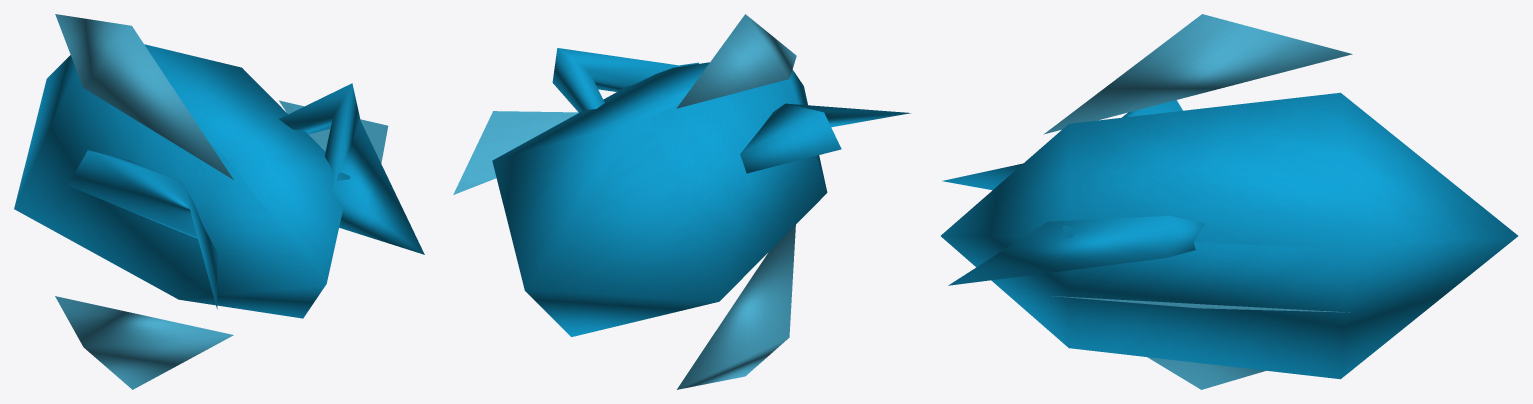
File: SM_storm_projectile_LOD2.fbx
3 renders of one model, left to right at view 1: azimuth 30°, elevation 25°; view 2: azimuth 150°, elevation 25°; view 3: azimuth 270°, elevation 25°, orthographic. The views are drawn at different scales.
Parts seen in each view (by area): view 1: SM_storm_projectile_LOD2; view 2: SM_storm_projectile_LOD2; view 3: SM_storm_projectile_LOD2.
Boxes of the visible parts, x1,y1,x2,y2 form: SM_storm_projectile_LOD2: (14,14,424,389); SM_storm_projectile_LOD2: (453,14,910,389); SM_storm_projectile_LOD2: (941,14,1517,389).
Size of the model in its own units: 0.2156 by 0.312 by 0.2237.
